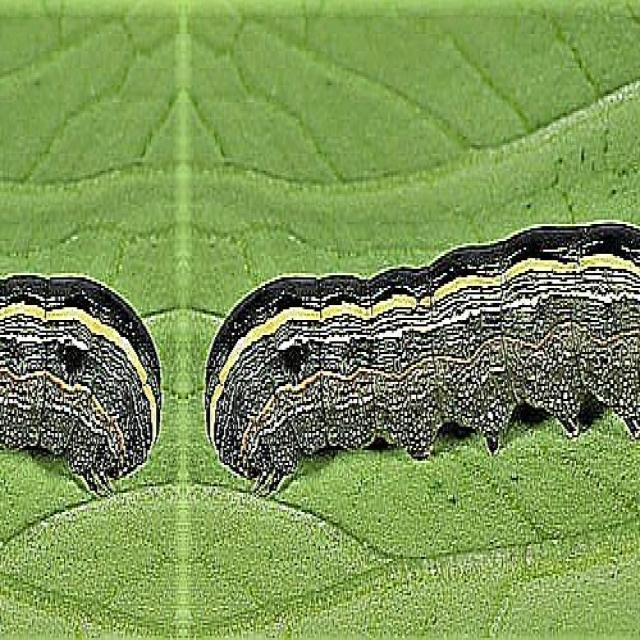Armyworm: (183, 208, 640, 523), (1, 217, 173, 519)
